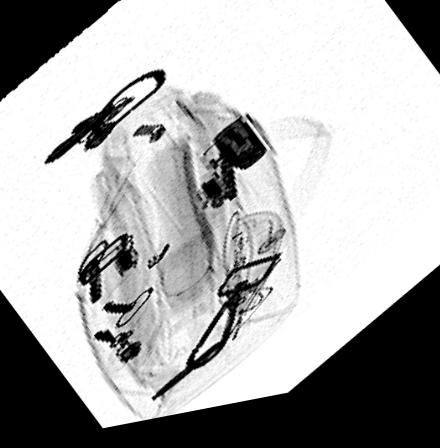Lighter: (211, 125, 267, 179)
